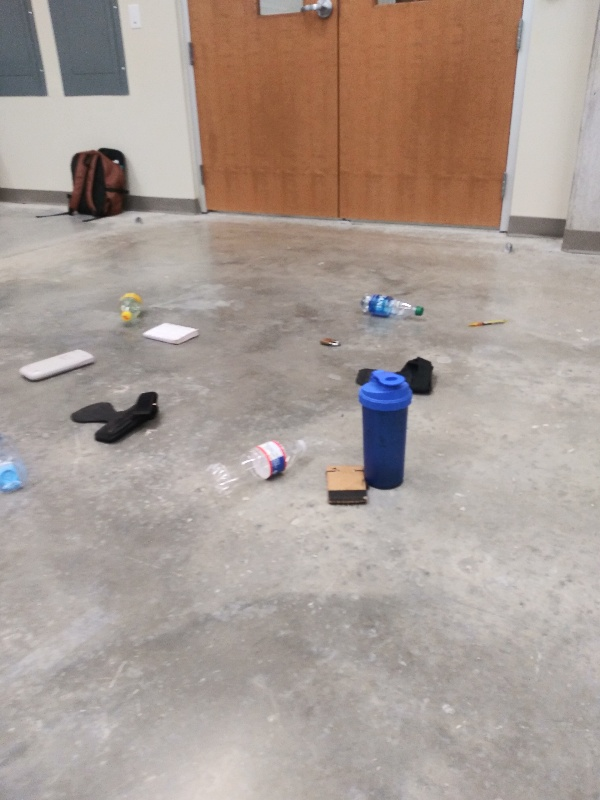bottle: (203, 433, 309, 501), (355, 292, 425, 322), (1, 445, 30, 497), (116, 283, 147, 330)
